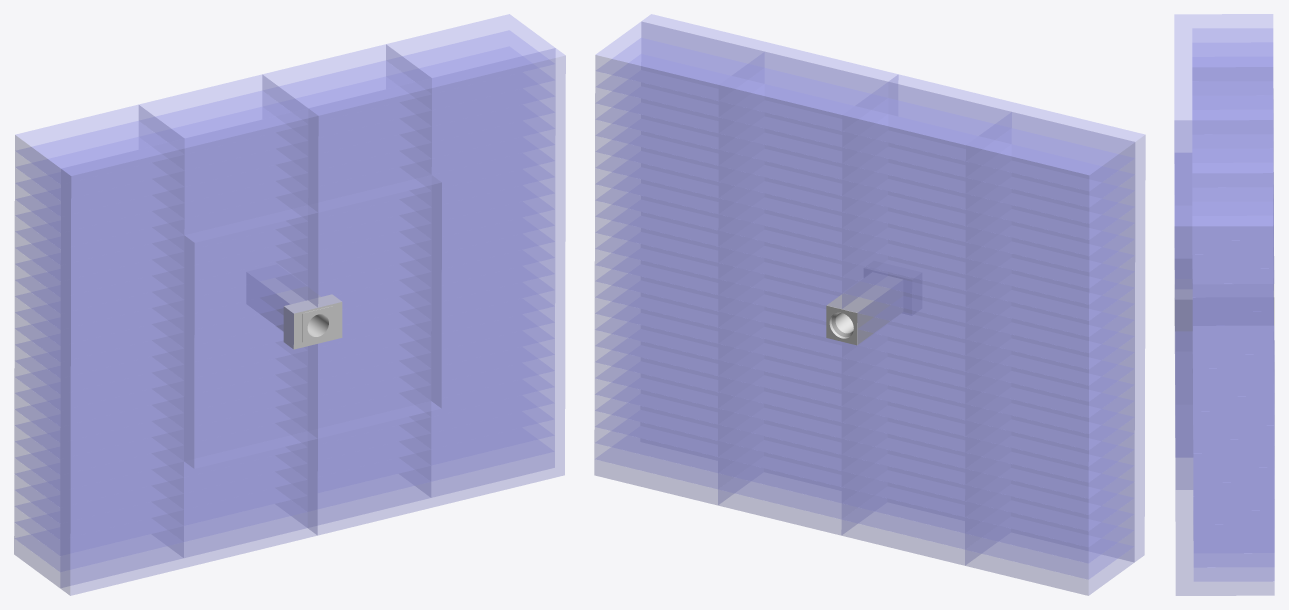
Rendered from LHCb_run3_HCAL.gltf.
3 renders of one model, left to right at view 1: azimuth 30°, elevation 25°; view 2: azimuth 150°, elevation 25°; view 3: azimuth 270°, elevation 25°, orthographic. The views are drawn at different scales.
Parts seen in each view (by area): view 1: _dd_Geometry_DownstreamRegion_Hcal_Installation_lvHcalOuterS (×78), _dd_Geometry_DownstreamRegion_Hcal_Installation_lvHcalInnerS (×31), _dd_Geometry_DownstreamRegion_Hcal_Installation_lvHcalRight_, _dd_Geometry_DownstreamRegion_Hcal_Installation_lvHcalLeft_p; view 2: _dd_Geometry_DownstreamRegion_Hcal_Installation_lvHcalOuterS (×78), _dd_Geometry_DownstreamRegion_Hcal_Installation_lvHcalInnerS (×28), _dd_Geometry_DownstreamRegion_Hcal_Installation_lvHcalRight_, _dd_Geometry_DownstreamRegion_Hcal_Installation_lvHcalLeft_p; view 3: _dd_Geometry_DownstreamRegion_Hcal_Installation_lvHcalOuterS (×34), _dd_Geometry_DownstreamRegion_Hcal_Installation_lvHcalInnerS (×3).
Part boxes in pixels (x1,y1,x2,y2): _dd_Geometry_DownstreamRegion_Hcal_Installation_lvHcalOuterS (×78): (14,14,565,595); _dd_Geometry_DownstreamRegion_Hcal_Installation_lvHcalInnerS (×31): (184,175,441,468); _dd_Geometry_DownstreamRegion_Hcal_Installation_lvHcalRight_: (260,278,318,345); _dd_Geometry_DownstreamRegion_Hcal_Installation_lvHcalLeft_p: (292,286,333,341); _dd_Geometry_DownstreamRegion_Hcal_Installation_lvHcalOuterS (×78): (594,14,1145,595); _dd_Geometry_DownstreamRegion_Hcal_Installation_lvHcalInnerS (×28): (718,170,981,468); _dd_Geometry_DownstreamRegion_Hcal_Installation_lvHcalRight_: (841,276,902,345); _dd_Geometry_DownstreamRegion_Hcal_Installation_lvHcalLeft_p: (826,281,873,341); _dd_Geometry_DownstreamRegion_Hcal_Installation_lvHcalOuterS (×34): (1174,14,1274,595); _dd_Geometry_DownstreamRegion_Hcal_Installation_lvHcalInnerS (×3): (1175,206,1192,457).
Bounding box in the file's own units: 8403 × 6830 × 1680.
